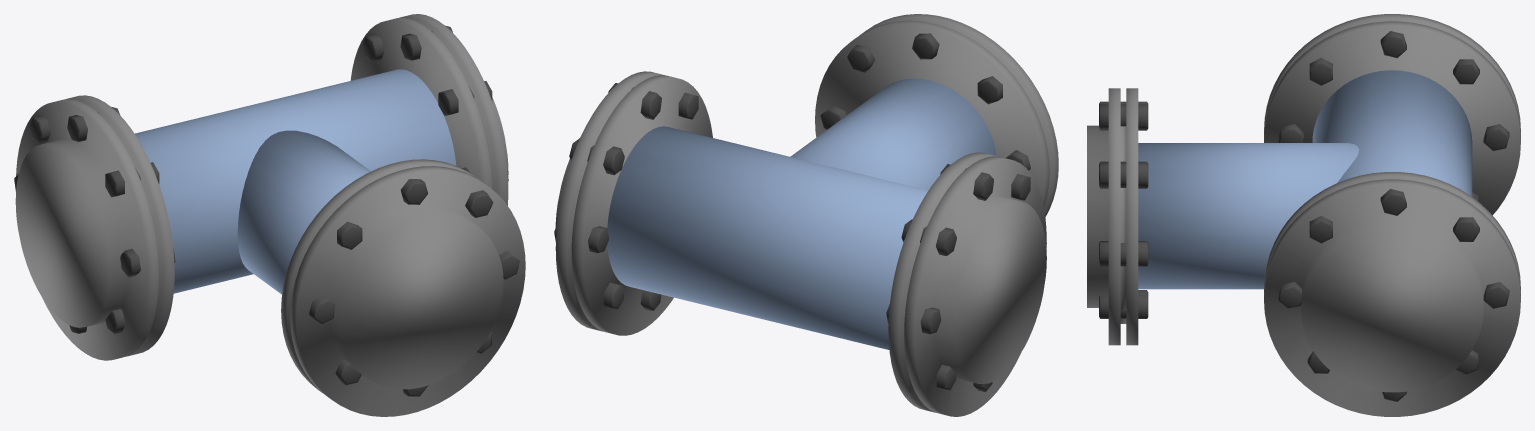
The model's file is butterfly-valve.glb.
3 renders of one model, left to right at view 1: azimuth 30°, elevation 25°; view 2: azimuth 150°, elevation 25°; view 3: azimuth 270°, elevation 25°, orthographic. The views are drawn at different scales.
Visible parts, largest first — view 1: Obj3d66-1060089-1647-7, Obj3d66-1060089-1649-977, shapes3d66-1060089-5-608, shapes3d66-1060089-6-661, Obj3d66-1060089-1651-17, Obj3d66-1060089-1648-952, Obj3d66-1060089-1650-841, Obj3d66-1060089-1652-79; view 2: shapes3d66-1060089-5-608, Obj3d66-1060089-1649-977, Obj3d66-1060089-1647-7, Obj3d66-1060089-1651-17, shapes3d66-1060089-6-661, Obj3d66-1060089-1652-79, Obj3d66-1060089-1650-841, Obj3d66-1060089-1648-952; view 3: Obj3d66-1060089-1651-17, shapes3d66-1060089-6-661, Obj3d66-1060089-1649-977, shapes3d66-1060089-5-608, Obj3d66-1060089-1647-7, Obj3d66-1060089-1652-79, Obj3d66-1060089-1648-952, Obj3d66-1060089-1650-841.
Boxes of the visible parts, bbox=[...] form: Obj3d66-1060089-1647-7: bbox=[281, 159, 525, 416]; Obj3d66-1060089-1649-977: bbox=[15, 95, 174, 360]; shapes3d66-1060089-5-608: bbox=[135, 69, 456, 293]; shapes3d66-1060089-6-661: bbox=[237, 130, 370, 294]; Obj3d66-1060089-1651-17: bbox=[350, 14, 508, 205]; Obj3d66-1060089-1648-952: bbox=[309, 179, 519, 396]; Obj3d66-1060089-1650-841: bbox=[14, 107, 175, 333]; Obj3d66-1060089-1652-79: bbox=[362, 25, 508, 180]; shapes3d66-1060089-5-608: bbox=[607, 126, 928, 349]; Obj3d66-1060089-1649-977: bbox=[888, 152, 1046, 416]; Obj3d66-1060089-1647-7: bbox=[815, 14, 1058, 216]; Obj3d66-1060089-1651-17: bbox=[555, 71, 712, 335]; shapes3d66-1060089-6-661: bbox=[790, 78, 996, 190]; Obj3d66-1060089-1652-79: bbox=[554, 83, 698, 310]; Obj3d66-1060089-1650-841: bbox=[886, 164, 1046, 392]; Obj3d66-1060089-1648-952: bbox=[820, 33, 1030, 170]; Obj3d66-1060089-1651-17: bbox=[1264, 172, 1520, 416]; shapes3d66-1060089-6-661: bbox=[1138, 143, 1359, 289]; Obj3d66-1060089-1649-977: bbox=[1264, 14, 1520, 215]; shapes3d66-1060089-5-608: bbox=[1312, 70, 1472, 196]; Obj3d66-1060089-1647-7: bbox=[1087, 88, 1138, 345]; Obj3d66-1060089-1652-79: bbox=[1278, 189, 1509, 401]; Obj3d66-1060089-1648-952: bbox=[1099, 101, 1148, 318]; Obj3d66-1060089-1650-841: bbox=[1278, 31, 1509, 201].
Size of the model in its own units: 2466 by 1417 by 2396.
